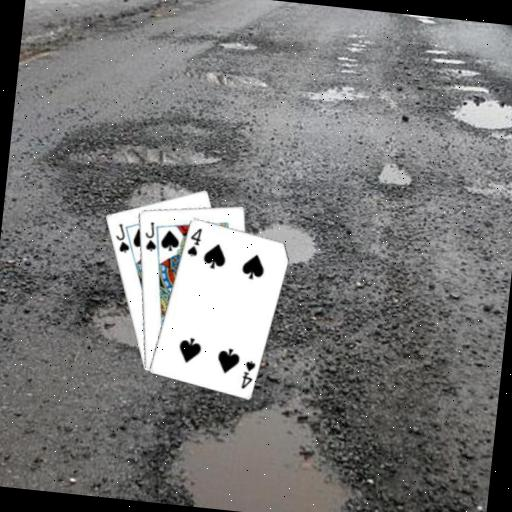4S: (183, 224, 203, 259), (238, 356, 258, 391)
JS: (111, 220, 133, 255), (140, 218, 160, 254)
